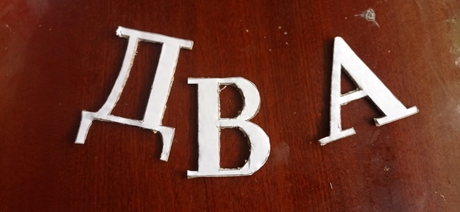a: (318, 36, 419, 150)
d: (73, 25, 194, 161)
v: (187, 77, 271, 179)
